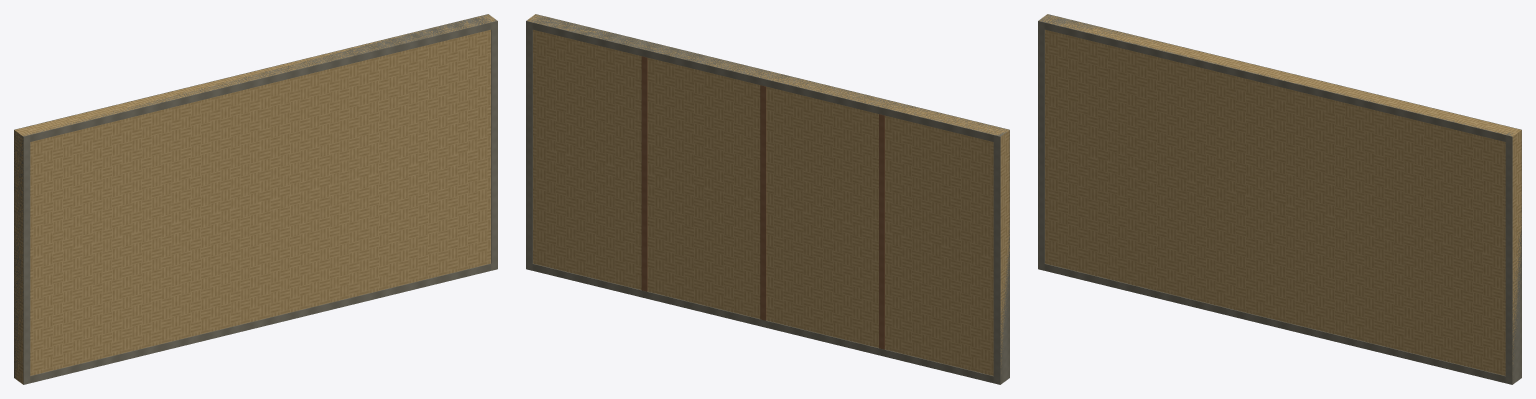
The model's file is MRP_WallHalf_Bamboo_2m.fbx.
3 renders of one model, left to right at view 1: azimuth 30°, elevation 25°; view 2: azimuth 150°, elevation 25°; view 3: azimuth 330°, elevation 25°, orthographic.
Parts seen in each view (by area): view 1: Body; view 2: Body; view 3: Body.
Boxes of the visible parts, x1,y1,x2,y2 form: Body: [14, 14, 497, 384]; Body: [526, 14, 1009, 384]; Body: [1038, 14, 1521, 384].
Size of the model in its own units: 2 by 1 by 0.07.
